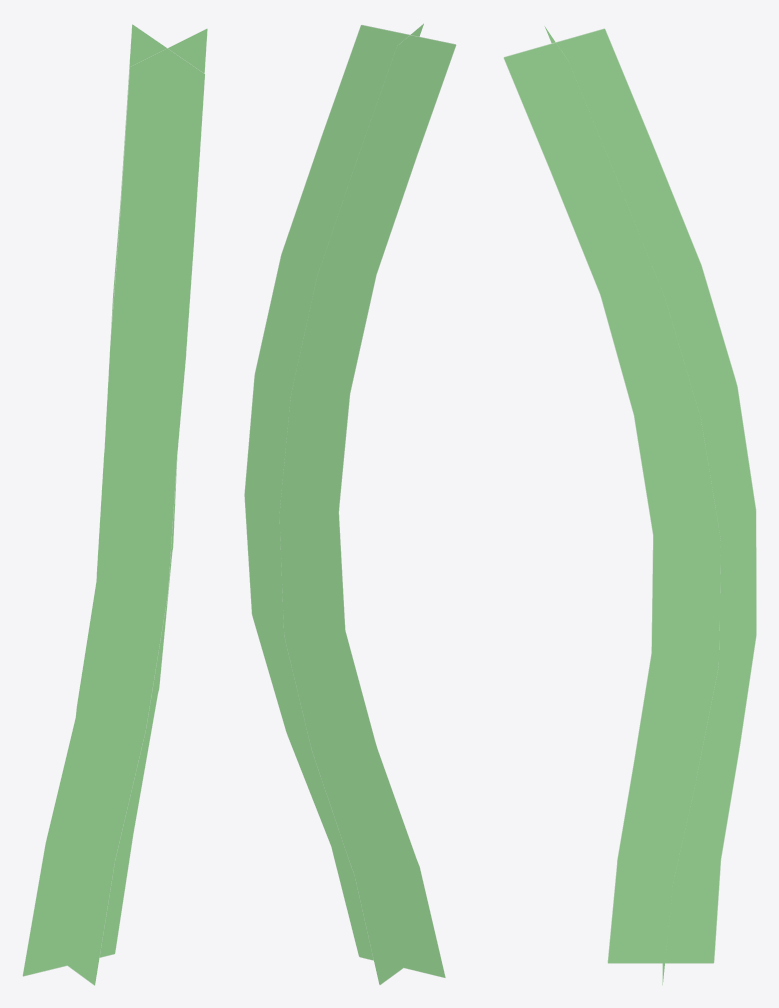
Rendered from TalloPlants_2.fbx.
The picture shows the model from 3 angles, left to right: view 1: azimuth 30°, elevation 25°; view 2: azimuth 150°, elevation 25°; view 3: azimuth 270°, elevation 25°; orthographic projection. The views are drawn at different scales.
Parts seen in each view (by area): view 1: TalloPlants_2; view 2: TalloPlants_2; view 3: TalloPlants_2.
Part boxes in pixels (x1,y1,x2,y2): TalloPlants_2: (22,24,207,985); TalloPlants_2: (244,23,456,984); TalloPlants_2: (503,26,756,985).
Bounding box in the file's own units: 24.95 × 116 × 29.43.
